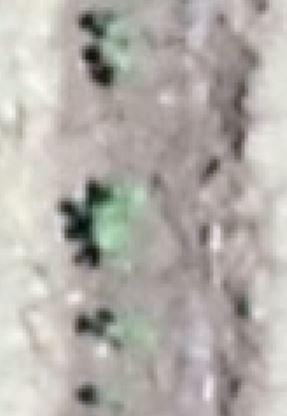cotton: (102, 46, 140, 81), (90, 208, 126, 236), (96, 229, 125, 257), (104, 315, 131, 342), (112, 186, 140, 208), (102, 19, 129, 38)
